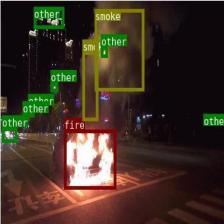fire: (64, 129, 116, 189)
smoke: (94, 8, 144, 90), (82, 50, 97, 120)
